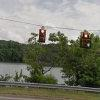Tree: (49, 30, 92, 78)
